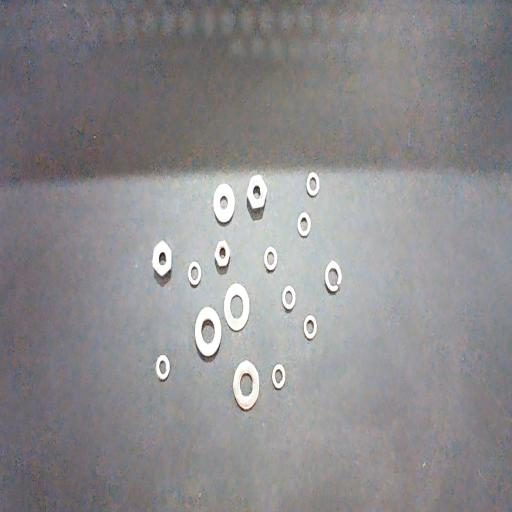nut: (246, 172, 267, 211), (152, 240, 172, 276), (214, 240, 230, 268)
washer: (194, 306, 222, 357), (232, 359, 259, 410), (224, 283, 249, 333), (212, 182, 235, 225), (325, 260, 342, 292), (271, 362, 286, 390), (302, 314, 318, 340), (155, 354, 170, 380), (282, 284, 296, 311), (187, 260, 202, 285), (297, 212, 311, 238), (264, 246, 278, 271), (306, 171, 320, 196)
